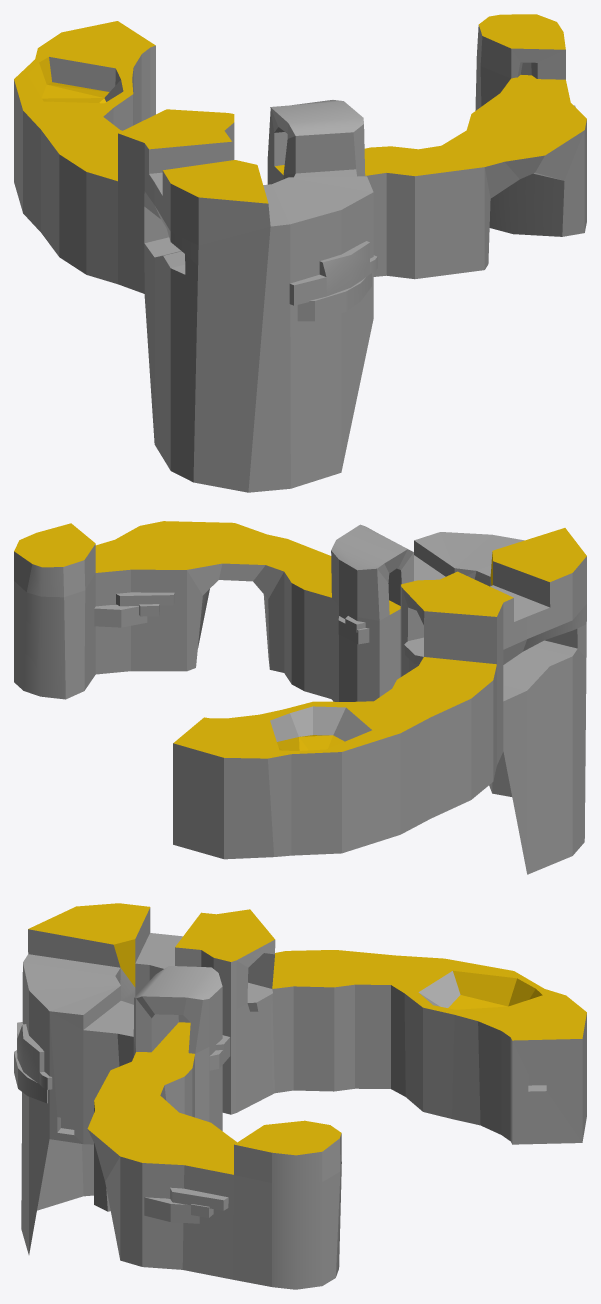
Rendered from horseshoe mesh colliusion.fbx.
The picture shows the model from 3 angles, top to bottom: view 1: azimuth 30°, elevation 25°; view 2: azimuth 150°, elevation 25°; view 3: azimuth 270°, elevation 25°; orthographic projection. The views are drawn at different scales.
Parts seen in each view (by area): view 1: pCube22; view 2: pCube22; view 3: pCube22.
Boxes of the visible parts, left/top/right/bottom form: pCube22: left=14, top=14, right=586, bottom=492; pCube22: left=14, top=521, right=586, bottom=874; pCube22: left=14, top=903, right=586, bottom=1289.
Bounding box in the file's own units: 1.55 × 0.9117 × 1.59.
